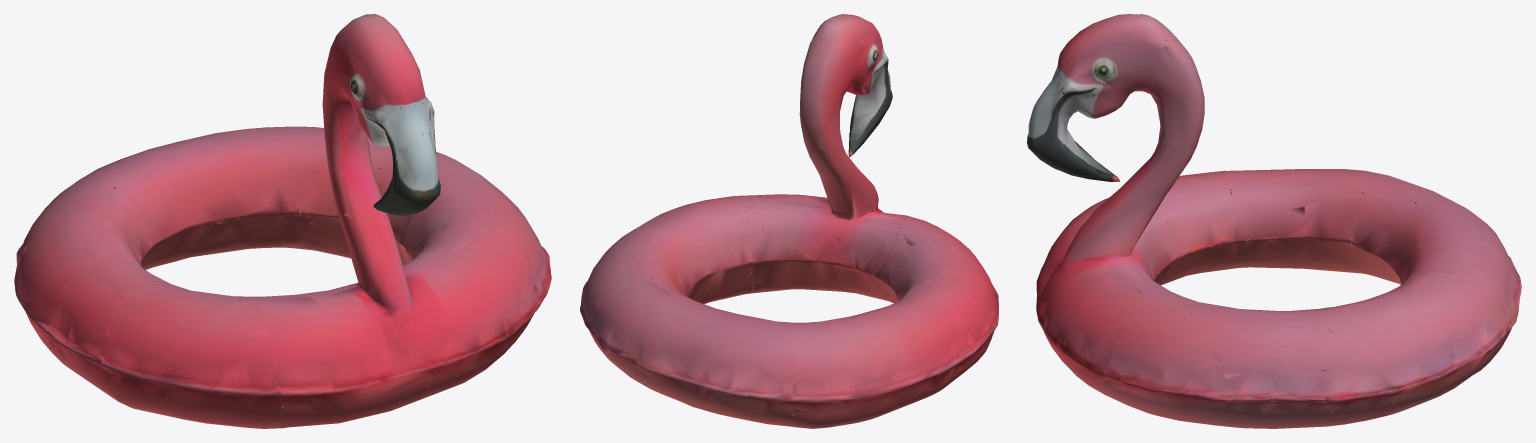
File: fkamingo_float.glb
3 views of the same model, side by side, from view 1: azimuth 30°, elevation 25°; view 2: azimuth 150°, elevation 25°; view 3: azimuth 270°, elevation 25° (orthographic). The views are drawn at different scales.
Visible parts, largest first — view 1: Pink Flamingo Pool Float_Material_0; view 2: Pink Flamingo Pool Float_Material_0; view 3: Pink Flamingo Pool Float_Material_0.
Boxes of the visible parts, box(x1,y1,x2,y2) form: Pink Flamingo Pool Float_Material_0: box(14, 14, 551, 428); Pink Flamingo Pool Float_Material_0: box(580, 14, 998, 428); Pink Flamingo Pool Float_Material_0: box(1027, 14, 1521, 428).
Bounding box in the file's own units: 0.9299 × 0.7086 × 0.93.
1 material, 1 textured.
